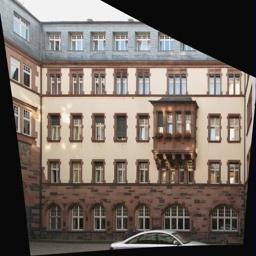building: (36, 0, 247, 245)
